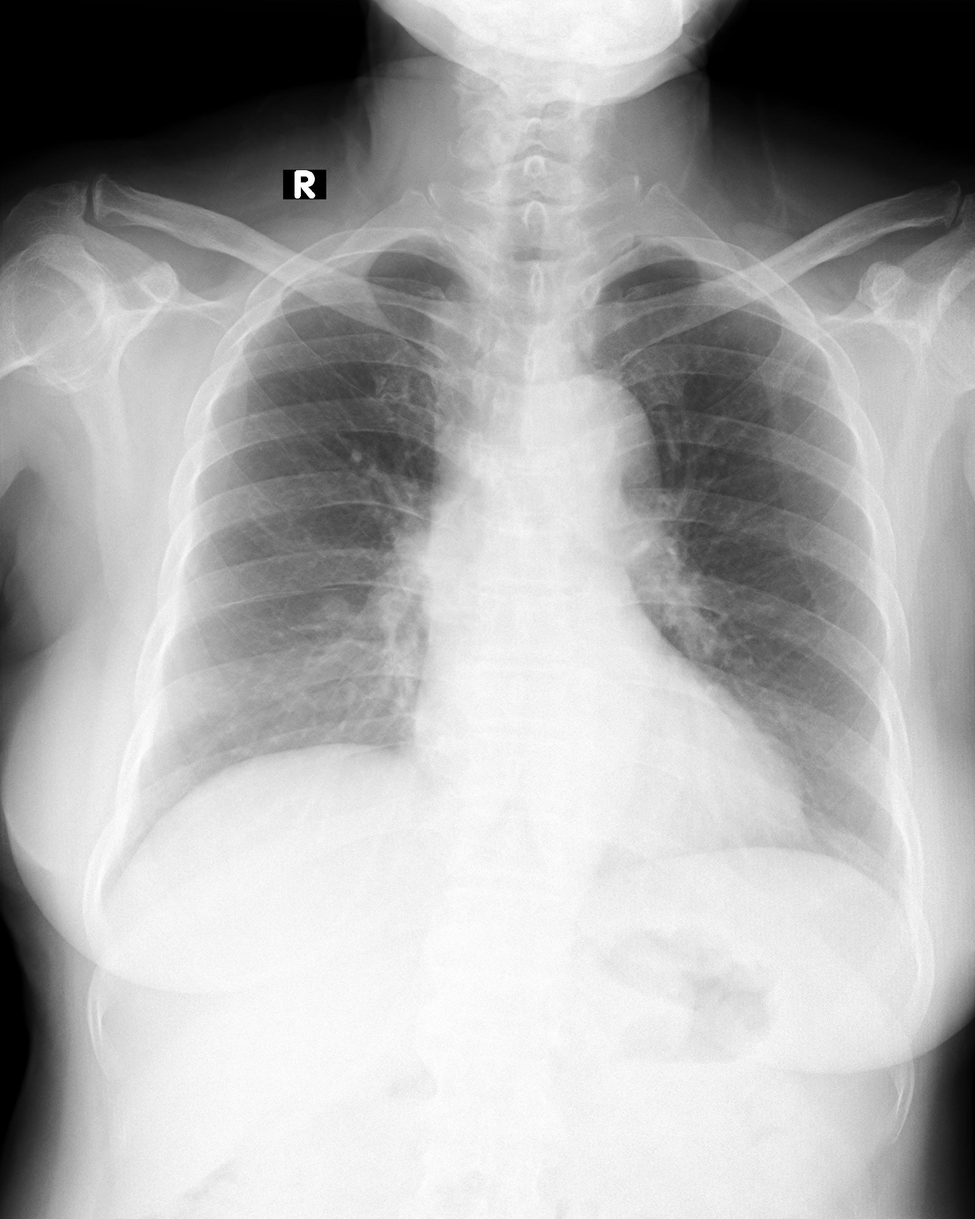Aortic enlargement: (515, 363, 668, 542)
